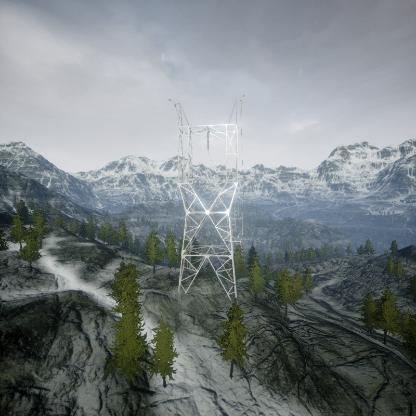tower: (167, 91, 248, 304)
